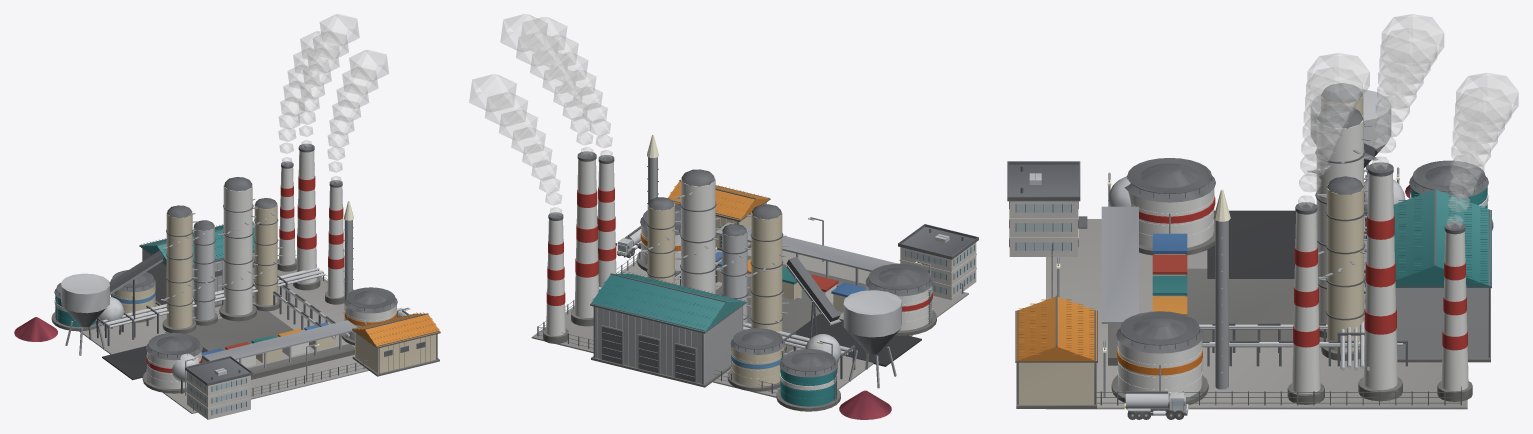
Rendered from Refinery_P3.fbx.
3 views of the same model, side by side, from view 1: azimuth 30°, elevation 25°; view 2: azimuth 150°, elevation 25°; view 3: azimuth 270°, elevation 25° (orthographic). The views are drawn at different scales.
Visible parts, largest first — view 1: Refinery.Pad, Refinery.Col2, Refinery.Shed, Refinery.Col0, Refinery.Office, Refinery.Smoke0, Refinery.Smoke1, Refinery.Bay, Refinery.Smoke2, Refinery.Col3, Refinery.Stack0, Refinery.Tank0 (+17 smaller); view 2: Refinery.Hall, Refinery.Pad, Refinery.Smoke2, Refinery.Smoke0, Refinery.Col2, Refinery.Col0, Refinery.Office, Refinery.Stack0, Refinery.Smoke1, Refinery.Tank1, Refinery.Intake, Refinery.Tank2 (+16 smaller); view 3: Refinery.Pad, Refinery.Hall, Refinery.Shed, Refinery.Stack0, Refinery.Tank3, Refinery.Office, Refinery.Tank0, Refinery.Col3, Refinery.Smoke0, Refinery.Smoke1, Refinery.Smoke2, Refinery.Stack1 (+14 smaller).
Part boxes in pixels (left/top/right/bottom): Refinery.Pad: left=79, top=269, right=368, bottom=413; Refinery.Col2: left=218, top=177, right=258, bottom=321; Refinery.Shed: left=352, top=312, right=440, bottom=376; Refinery.Col0: left=161, top=205, right=198, bottom=333; Refinery.Office: left=185, top=356, right=252, bottom=419; Refinery.Smoke0: left=298, top=14, right=359, bottom=147; Refinery.Smoke1: left=327, top=50, right=388, bottom=183; Refinery.Bay: left=203, top=320, right=366, bottom=379; Refinery.Smoke2: left=278, top=31, right=339, bottom=164; Refinery.Col3: left=252, top=198, right=282, bottom=311; Refinery.Stack0: left=293, top=143, right=320, bottom=290; Refinery.Tank0: left=142, top=332, right=202, bottom=393; Refinery.Hall: left=590, top=272, right=746, bottom=387; Refinery.Pad: left=531, top=247, right=968, bottom=397; Refinery.Smoke2: left=469, top=74, right=561, bottom=216; Refinery.Smoke0: left=500, top=14, right=593, bottom=156; Refinery.Col2: left=674, top=169, right=722, bottom=293; Refinery.Col0: left=745, top=204, right=788, bottom=352; Refinery.Office: left=898, top=224, right=978, bottom=299; Refinery.Stack0: left=571, top=151, right=598, bottom=326; Refinery.Smoke1: left=521, top=17, right=612, bottom=159; Refinery.Tank1: left=776, top=349, right=840, bottom=411; Refinery.Intake: left=843, top=290, right=901, bottom=388; Refinery.Tank2: left=727, top=328, right=785, bottom=391; Refinery.Pad: left=1046, top=210, right=1467, bottom=409; Refinery.Hall: left=1393, top=188, right=1491, bottom=362; Refinery.Shed: left=1015, top=295, right=1097, bottom=408; Refinery.Stack0: left=1358, top=162, right=1402, bottom=401; Refinery.Tank3: left=1111, top=311, right=1208, bottom=405; Refinery.Office: left=1007, top=161, right=1087, bottom=256; Refinery.Tank0: left=1124, top=158, right=1215, bottom=255; Refinery.Col3: left=1317, top=176, right=1366, bottom=360; Refinery.Smoke0: left=1372, top=14, right=1443, bottom=169; Refinery.Smoke1: left=1298, top=53, right=1369, bottom=208; Refinery.Smoke2: left=1447, top=73, right=1518, bottom=228; Refinery.Stack1: left=1287, top=202, right=1324, bottom=404.
Bounding box in the file's own units: 10255 × 7366 × 8250.
